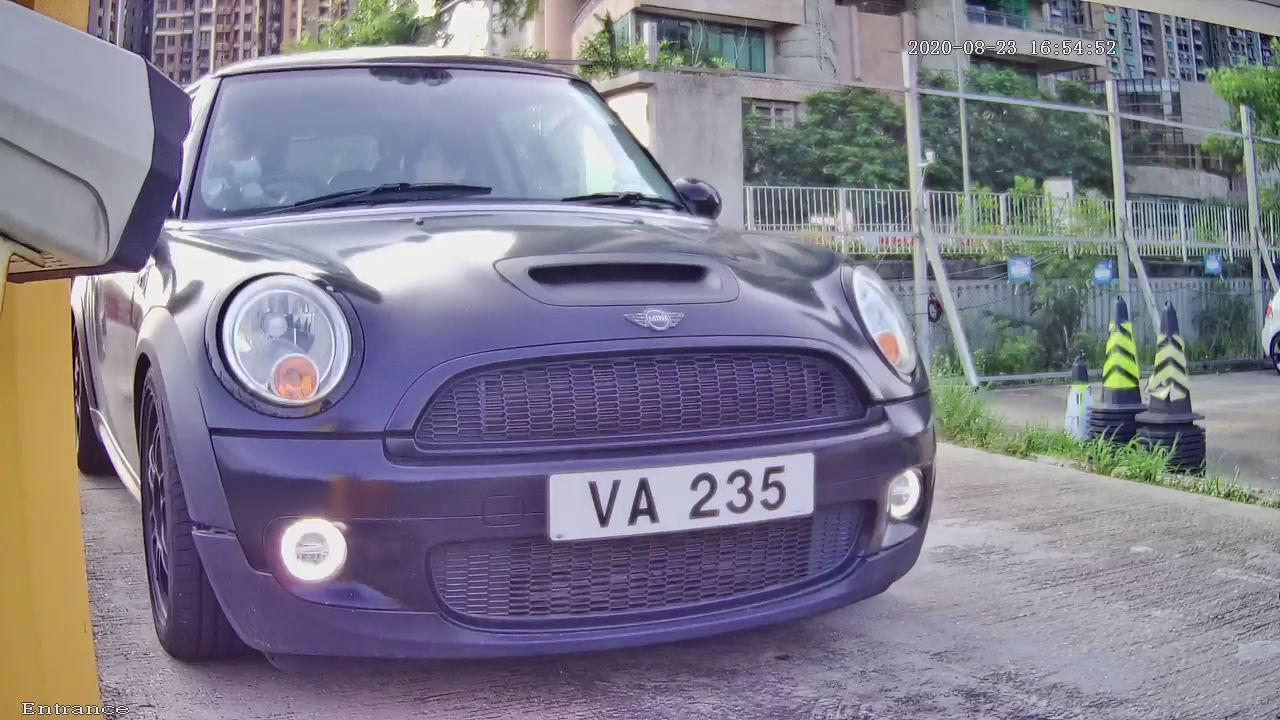Car: (18, 4, 1029, 720)
License Plate: (489, 376, 866, 595)
